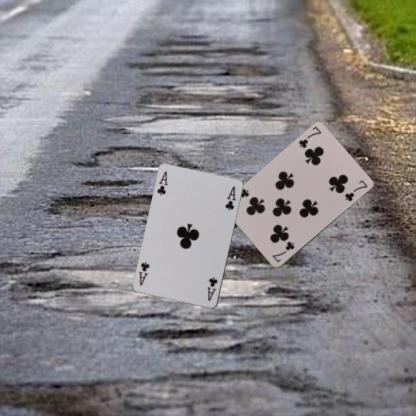7c: (296, 124, 322, 150), (270, 239, 296, 264)
Ac: (155, 169, 169, 197), (205, 275, 219, 302)
